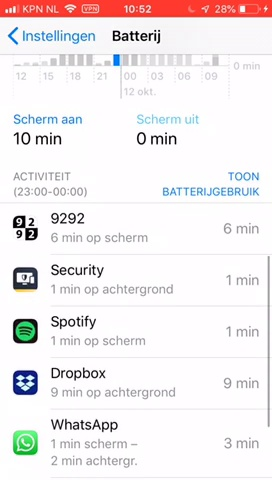activity: (8, 169, 95, 198)
app: (4, 415, 263, 470), (6, 209, 264, 248), (6, 261, 264, 300), (5, 310, 263, 349), (6, 364, 264, 403)
